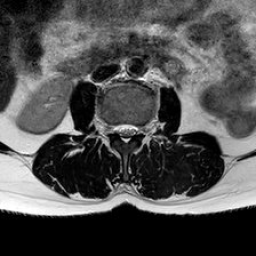CCS_normal: (122, 112, 129, 150)
LFS_normal: (137, 115, 145, 142)
LLS_normal: (129, 116, 138, 142)
RFS_normal: (106, 113, 114, 141)
RLS_normal: (114, 114, 122, 141)
